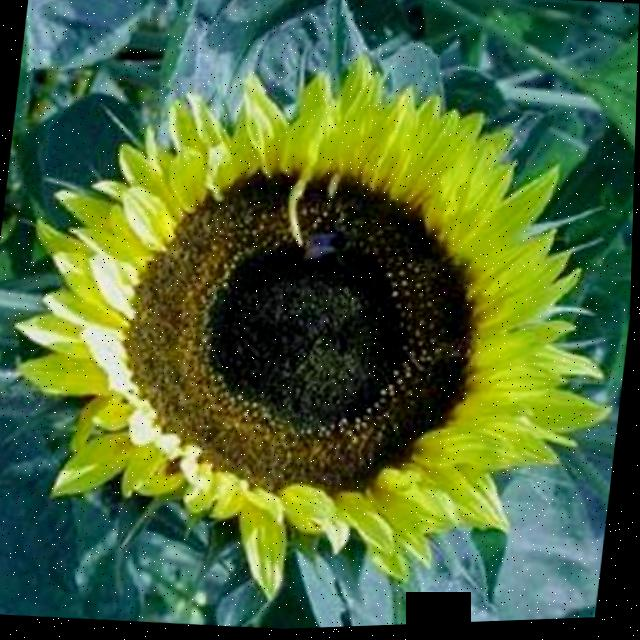sunflower: (0, 20, 639, 640)
